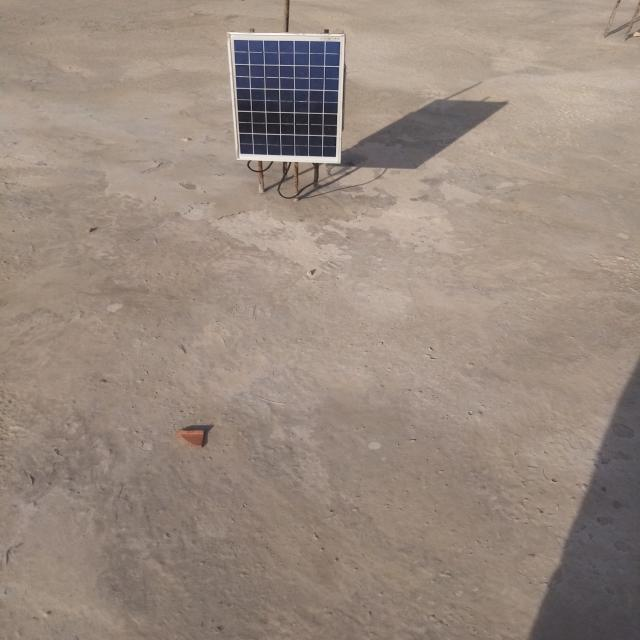no faulty: (228, 35, 346, 164)
